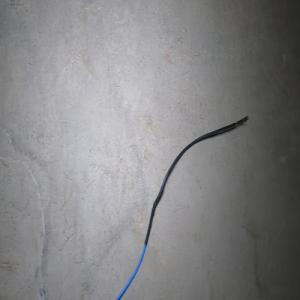Wire: (114, 115, 248, 300)
